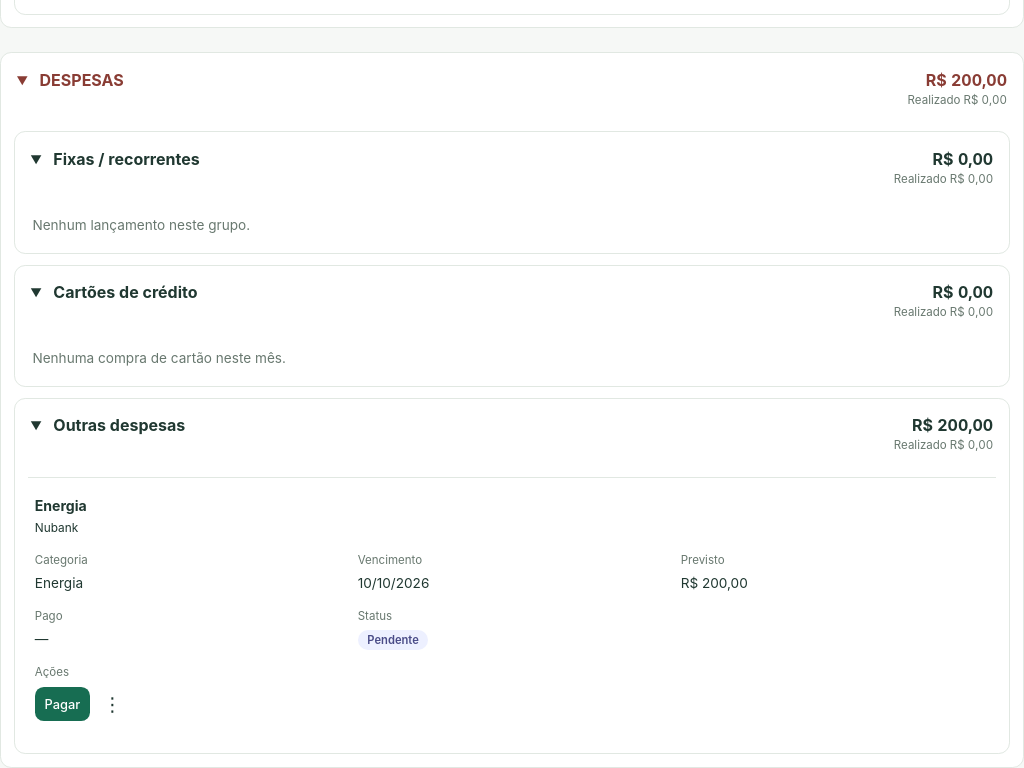
Test: Lançamentos › baixa permite valor diferente, apresenta previsto, pago e diferença; reabre preservando valor
(page scrolled)
Click the button "Pagar".
click(62, 704)  # box [35,687,90,721]
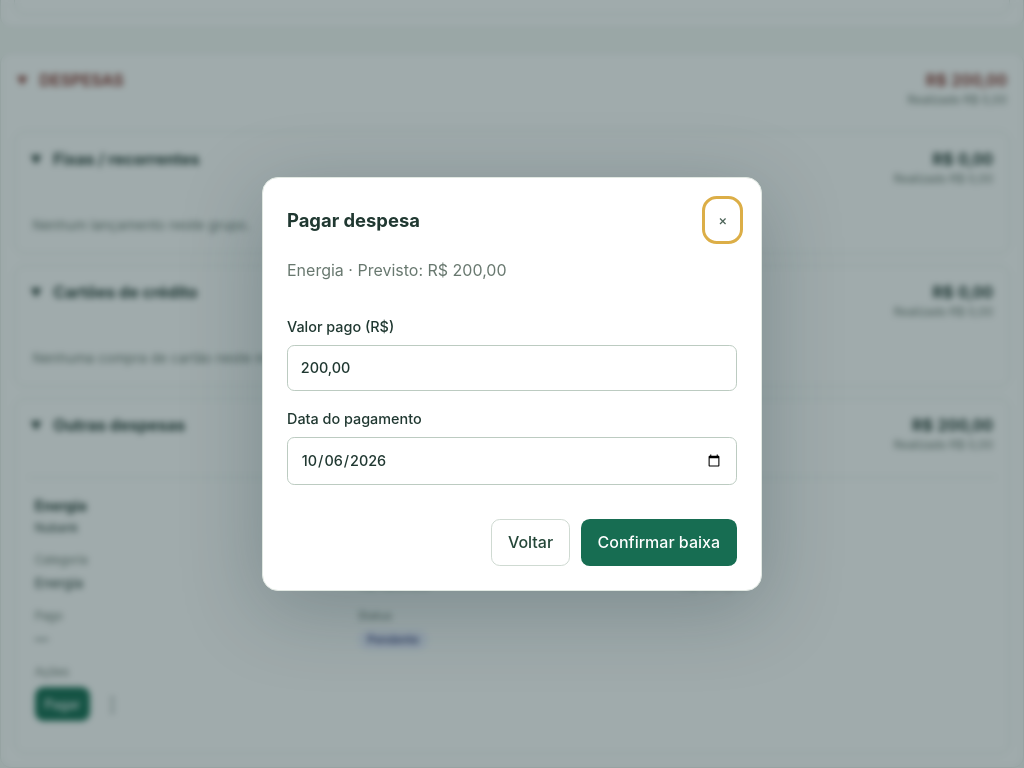
Expected: the field labelled "Valor pago (R$)" holds "200,00"
Replace the text in the field labelled "Valor pago (R$)" with "217,30" at (512, 368), box [287,345,737,391]
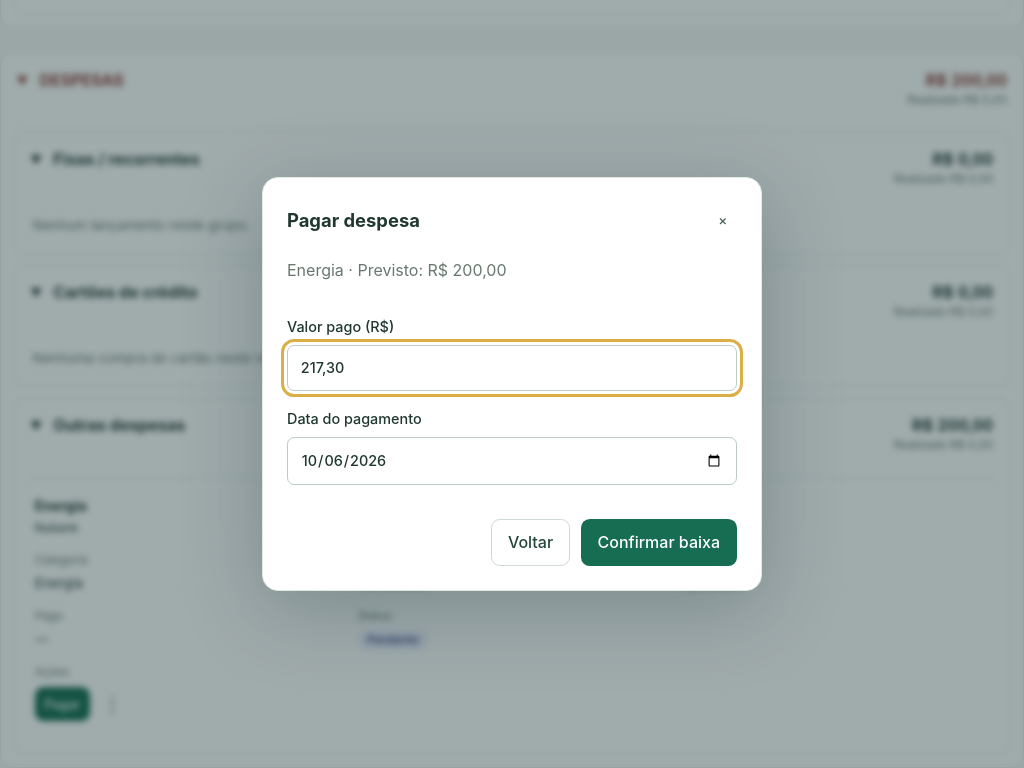
Click the button "Confirmar baixa".
click(659, 542)  # box [580,519,737,566]
(page scrolled)
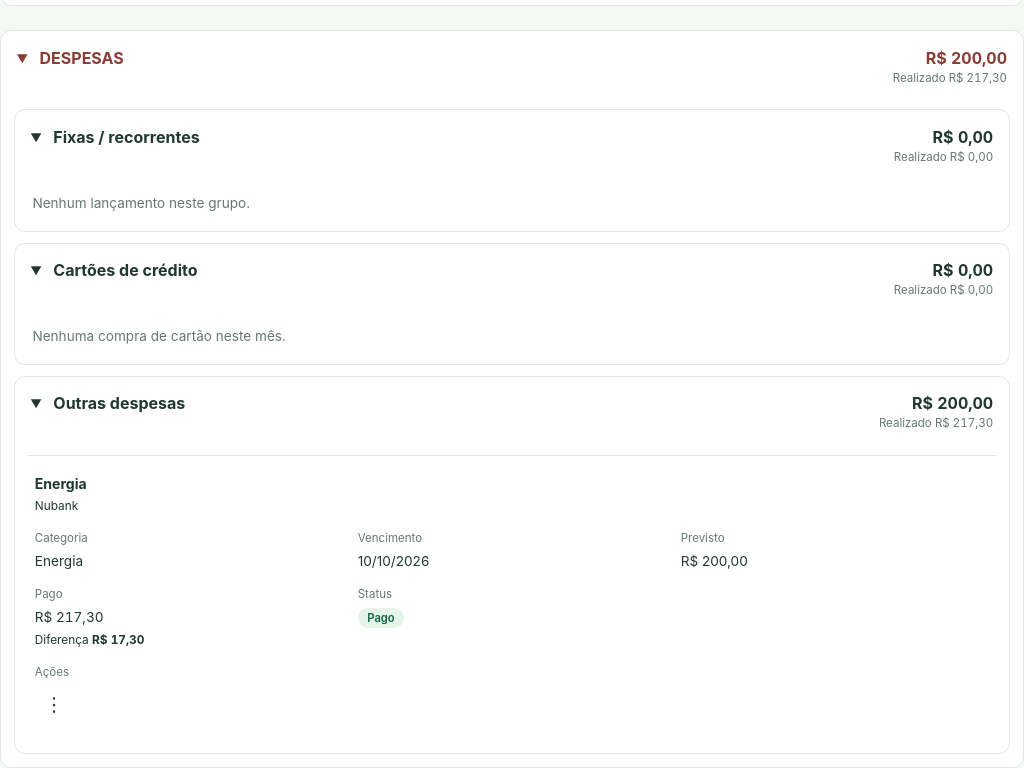
Click the heading named "Ações de Energia".
click(54, 704)  # box [44,692,64,716]
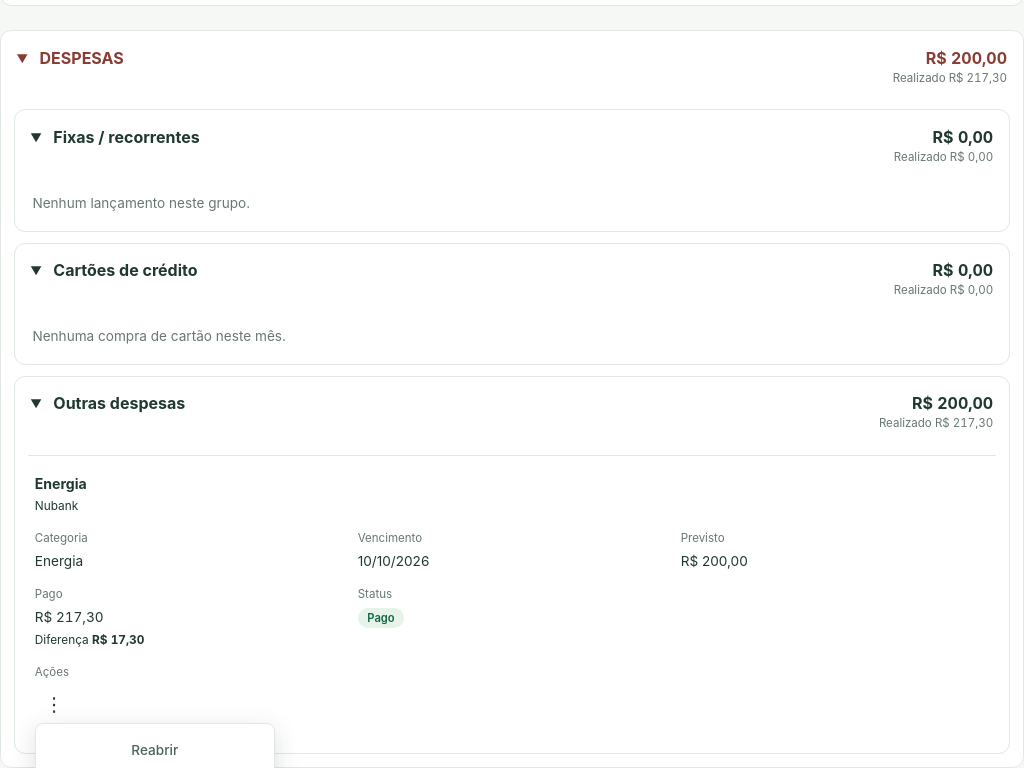
Expected: the text "Diferença" is shown, [35,633,89,647]
Expected: the text "R$ 17,30" is shown, [92,633,144,647]
Expected: the button "Reabrir" is shown
Click the button "Reabrir".
click(155, 750)  # box [44,732,266,767]
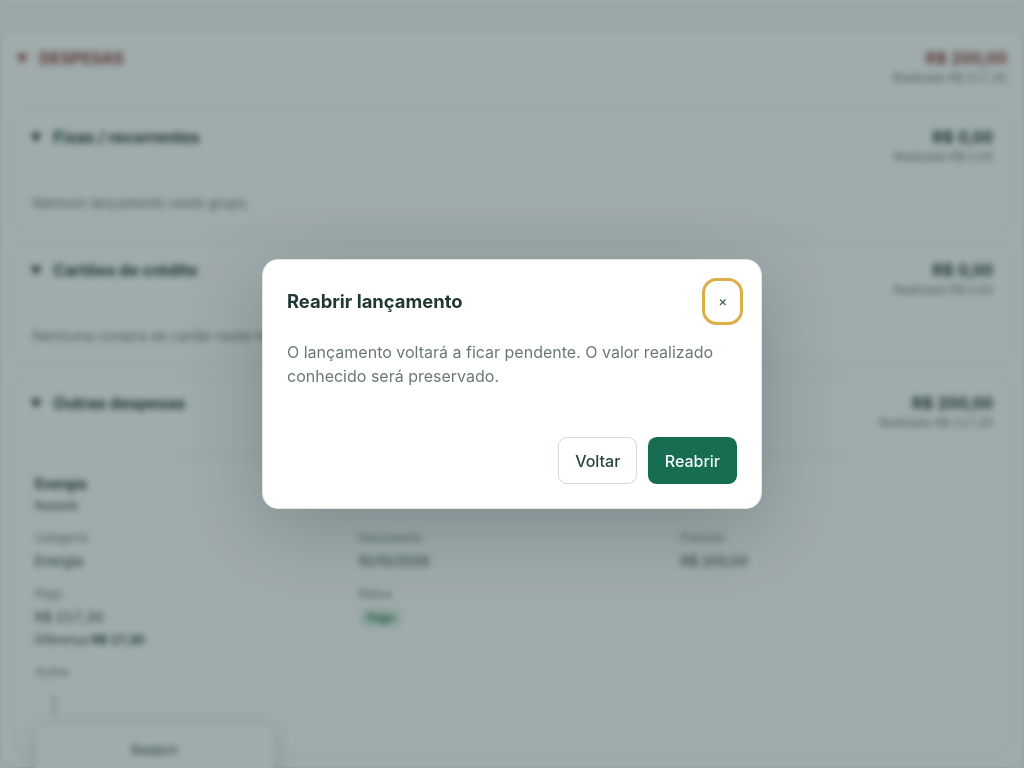
Click the button "Reabrir".
click(692, 461)  # box [648,437,737,484]
(page scrolled)
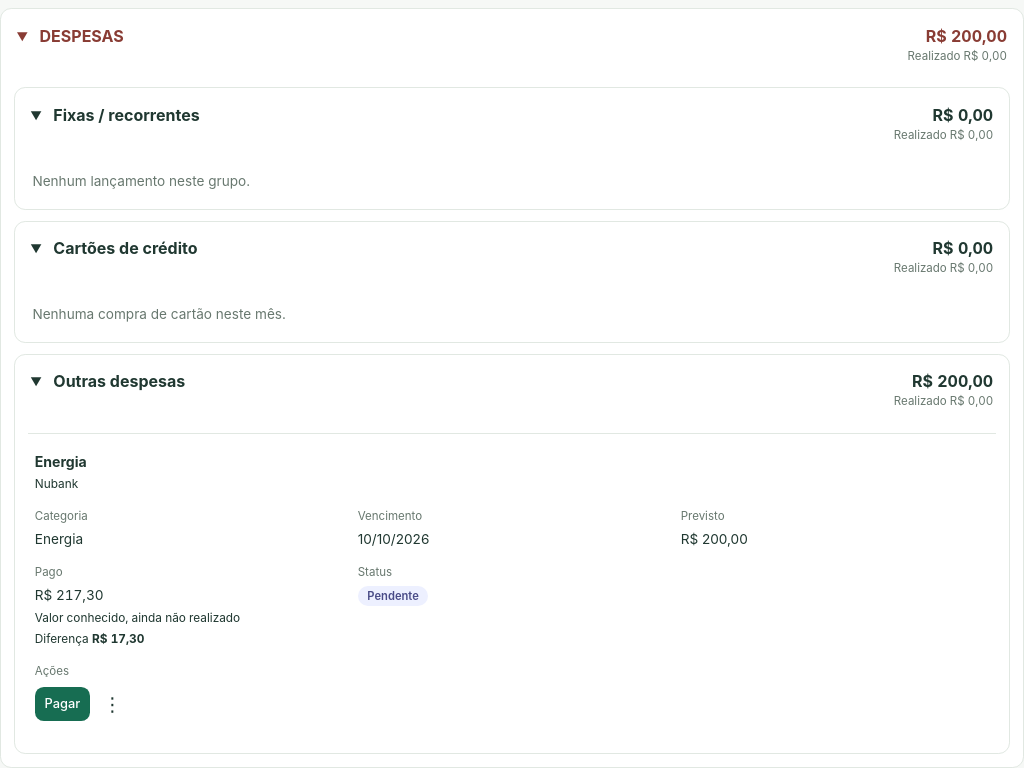
Expected: the button "Pagar" is shown, [35,687,90,721]
